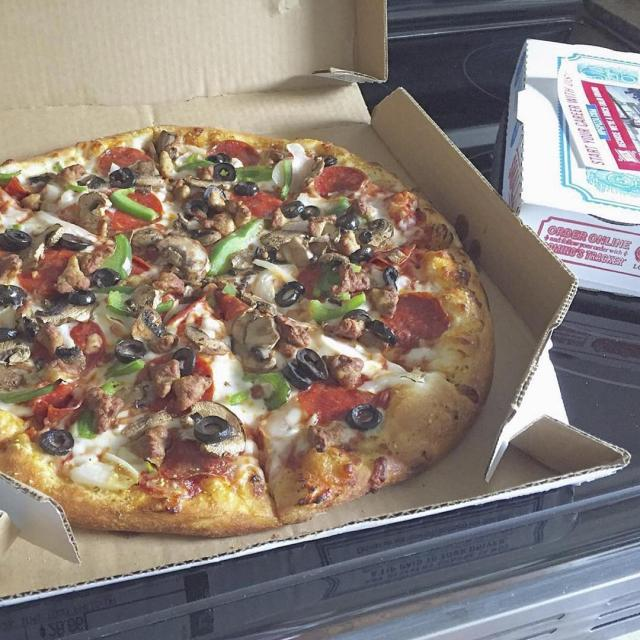black_olives: (295, 347, 329, 382), (36, 428, 78, 456), (347, 403, 382, 430), (274, 280, 306, 308), (194, 416, 231, 440), (114, 338, 148, 362), (283, 360, 311, 389), (170, 346, 197, 376), (366, 319, 396, 346), (0, 282, 28, 308), (92, 267, 122, 288), (107, 167, 135, 189), (59, 234, 93, 251), (4, 228, 32, 248), (212, 162, 237, 182), (184, 199, 208, 219), (67, 289, 96, 305), (280, 200, 305, 218), (349, 247, 375, 264), (341, 308, 372, 322), (233, 180, 261, 195), (203, 185, 225, 203), (383, 264, 398, 290), (0, 234, 19, 252), (335, 214, 359, 228), (301, 205, 321, 220), (0, 326, 18, 342), (314, 155, 337, 165), (205, 154, 223, 162), (218, 153, 232, 162)
mushrooms: (180, 400, 246, 458), (232, 305, 282, 373), (154, 237, 212, 284), (18, 222, 64, 273), (131, 306, 179, 354), (34, 292, 100, 325), (77, 190, 113, 235), (121, 409, 173, 440), (0, 340, 31, 390), (183, 325, 233, 356), (230, 244, 276, 273), (126, 284, 161, 316), (260, 226, 309, 248), (16, 303, 43, 342), (360, 218, 394, 248), (130, 229, 168, 255), (52, 344, 86, 373), (134, 162, 164, 188), (320, 252, 350, 273), (187, 228, 221, 246)
pepperoni: (300, 374, 390, 422), (382, 292, 448, 349), (22, 243, 82, 298), (160, 438, 233, 480), (106, 186, 164, 232), (313, 165, 372, 203), (70, 321, 106, 374), (36, 379, 81, 421), (228, 188, 287, 218), (98, 146, 156, 176), (211, 139, 262, 169), (297, 261, 327, 301), (368, 245, 416, 266), (214, 291, 250, 317), (4, 176, 35, 197), (128, 256, 153, 275)
pizza: (0, 127, 494, 540)
